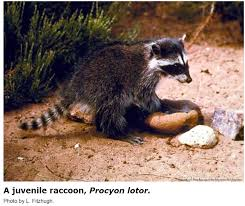raccoon: (57, 31, 190, 136)
